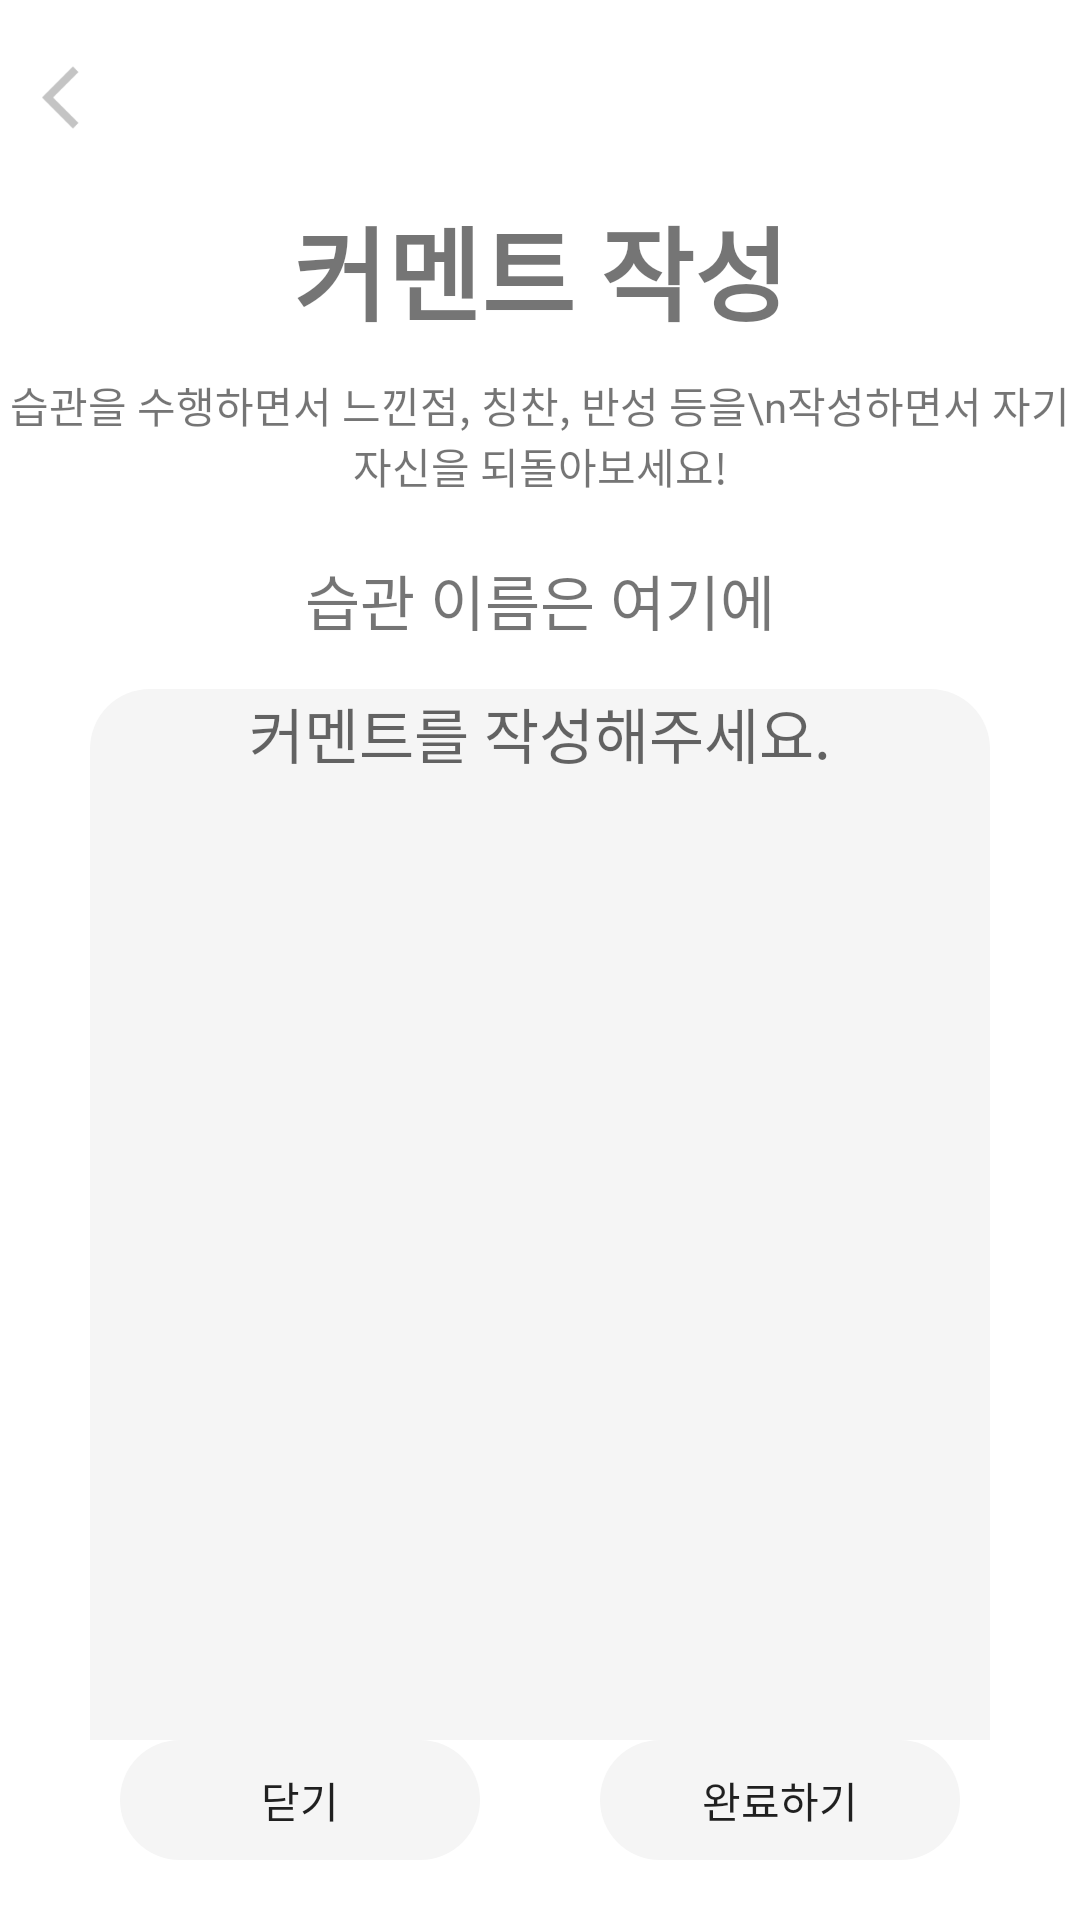

Icon bounding boxes for this 1080x1920 phone screenshot, format region(x1, y1, x2, y2):
back: region(42, 67, 78, 128)
